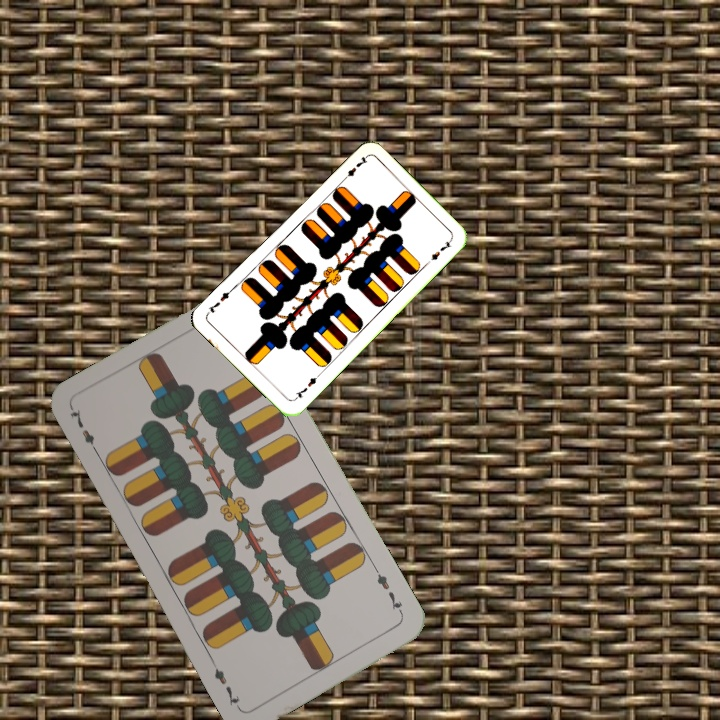E7: (370, 564, 406, 618), (66, 404, 102, 458), (290, 370, 322, 403), (337, 152, 369, 185)
